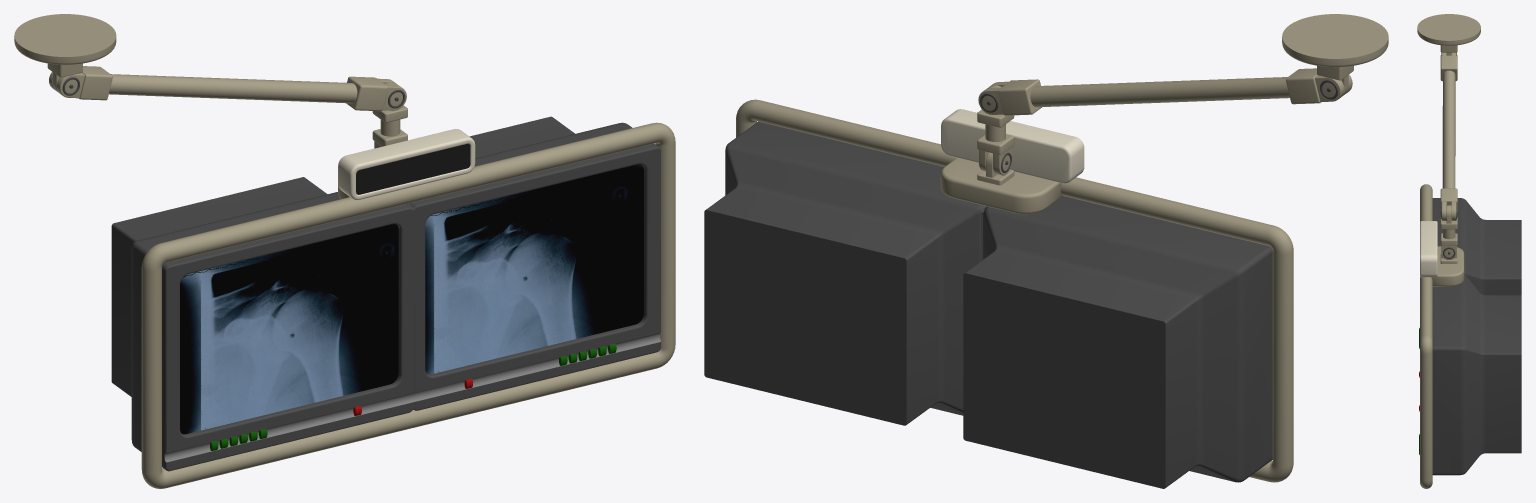
Rendered from monitor doble.fbx.
3 views of the same model, side by side, from view 1: azimuth 30°, elevation 25°; view 2: azimuth 150°, elevation 25°; view 3: azimuth 270°, elevation 25° (orthographic). The views are drawn at different scales.
Parts seen in each view (by area): view 1: cadnav.com; view 2: cadnav.com; view 3: cadnav.com.
Part boxes in pixels (x1=…): cadnav.com: x1=14, y1=14, x2=675, y2=488; cadnav.com: x1=704, y1=14, x2=1388, y2=488; cadnav.com: x1=1417, y1=14, x2=1521, y2=488.
Size of the model in its own units: 766 by 528 by 175.
Materials: 9 (1 with a texture image).
